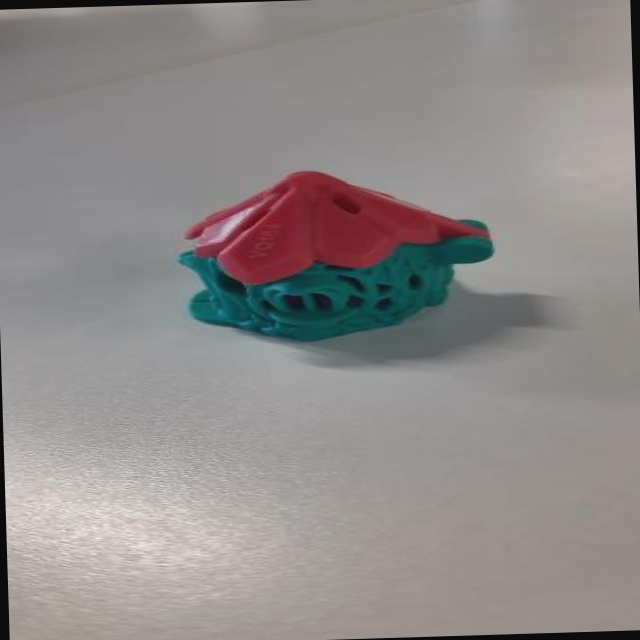House: (152, 155, 507, 356)
